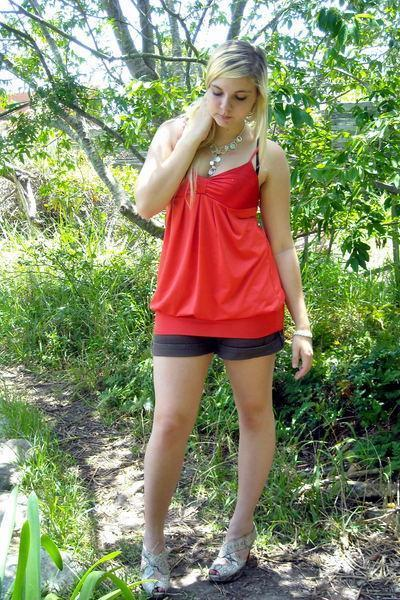dress: (149, 139, 289, 337)
shoe: (132, 509, 270, 587)
shorts: (162, 329, 291, 359)
